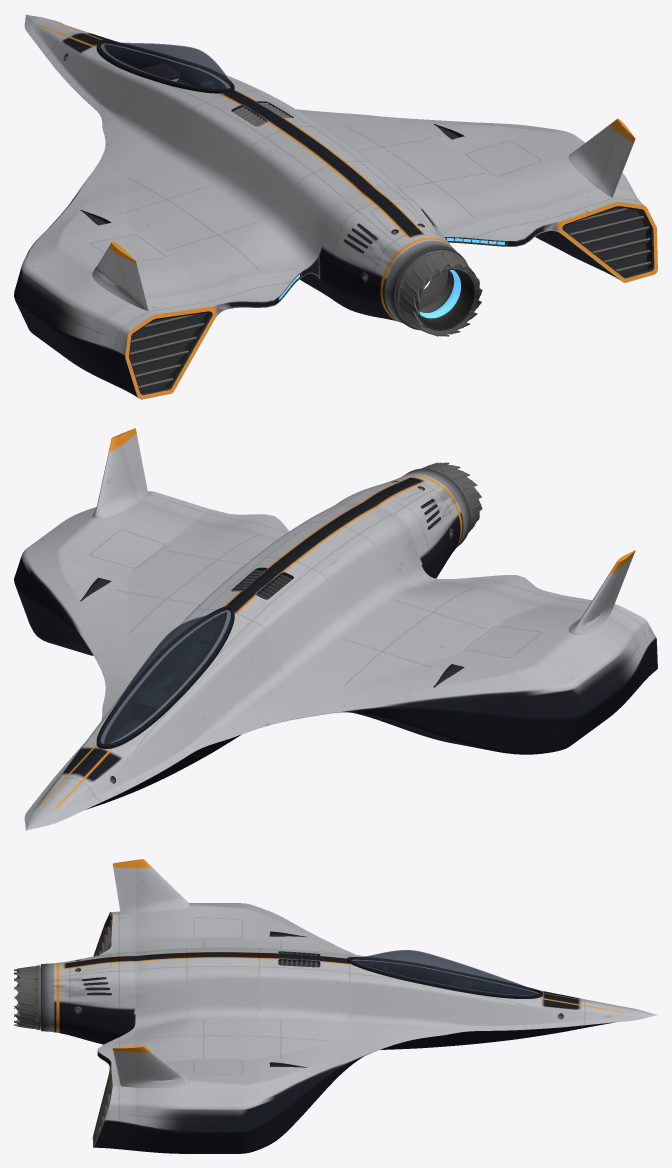
File: rocket_web.glb
The picture shows the model from 3 angles, top to bottom: view 1: azimuth 30°, elevation 25°; view 2: azimuth 150°, elevation 25°; view 3: azimuth 270°, elevation 25°; orthographic projection. The views are drawn at different scales.
Parts seen in each view (by area): view 1: Hull, Canopy, Fin_R, Engine, Fin_L, ExitVanes_R, ExitVanes_L; view 2: Hull, Canopy, Fin_R, Cockpit, Fin_L; view 3: Hull, Canopy, Fin_L, Fin_R.
Part boxes in pixels (<box>): Hull: <box>14,14,657,399</box>; Canopy: <box>96,40,234,93</box>; Fin_R: <box>568,118,635,197</box>; Engine: <box>396,251,475,330</box>; Fin_L: <box>92,242,148,310</box>; ExitVanes_R: <box>563,208,650,273</box>; ExitVanes_L: <box>129,313,207,390</box>; Hull: <box>14,468,657,830</box>; Canopy: <box>96,605,234,748</box>; Fin_R: <box>92,428,148,517</box>; Cockpit: <box>132,632,213,721</box>; Fin_L: <box>568,550,635,635</box>; Hull: <box>41,903,657,1153</box>; Canopy: <box>347,950,542,998</box>; Fin_L: <box>112,859,189,914</box>; Fin_R: <box>112,1045,189,1087</box>.
Bounding box in the file's own units: 10.3 × 2.35 × 13.34.
6 materials, 1 textured.
